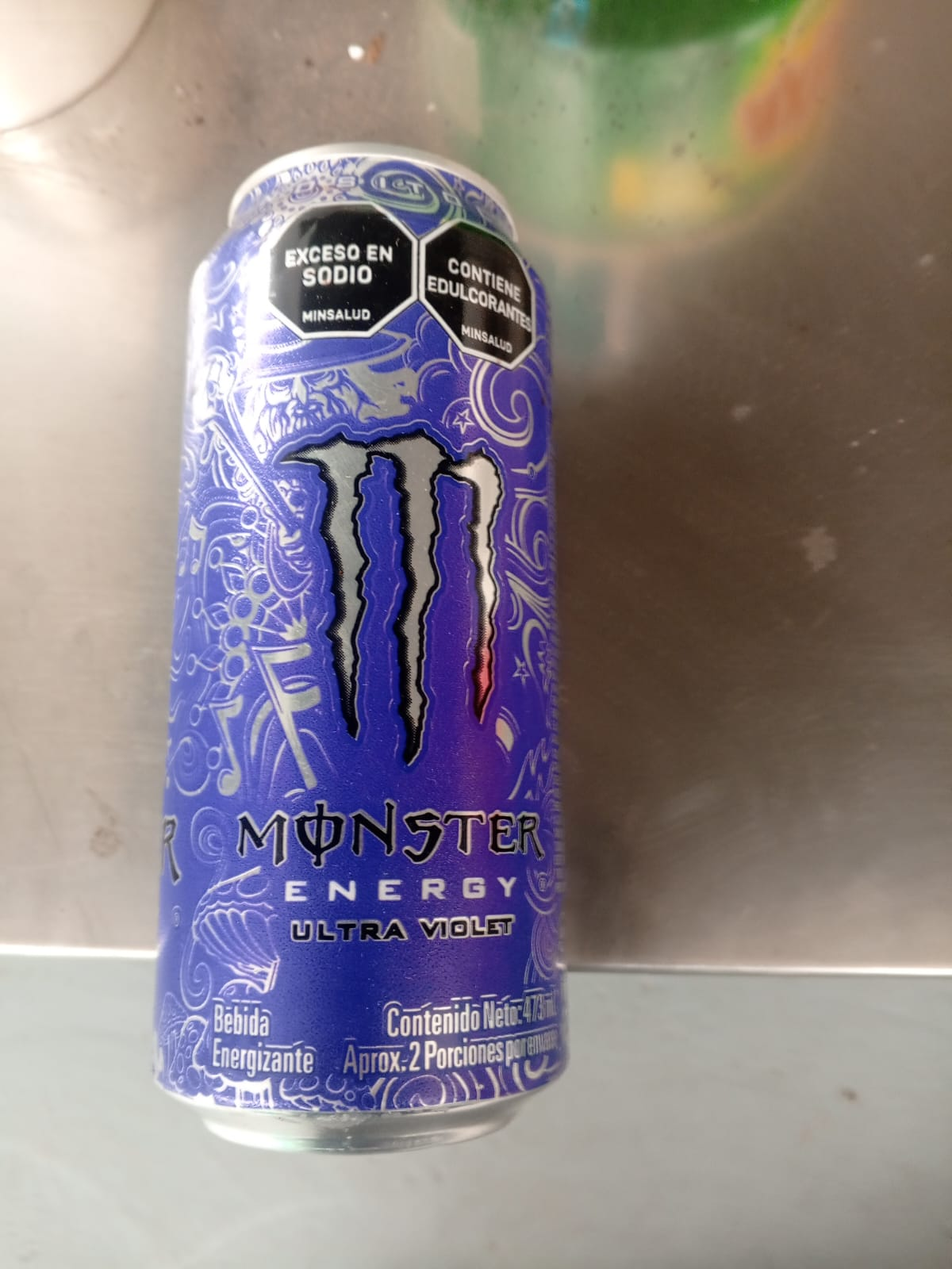Metal: (159, 142, 565, 1150)
